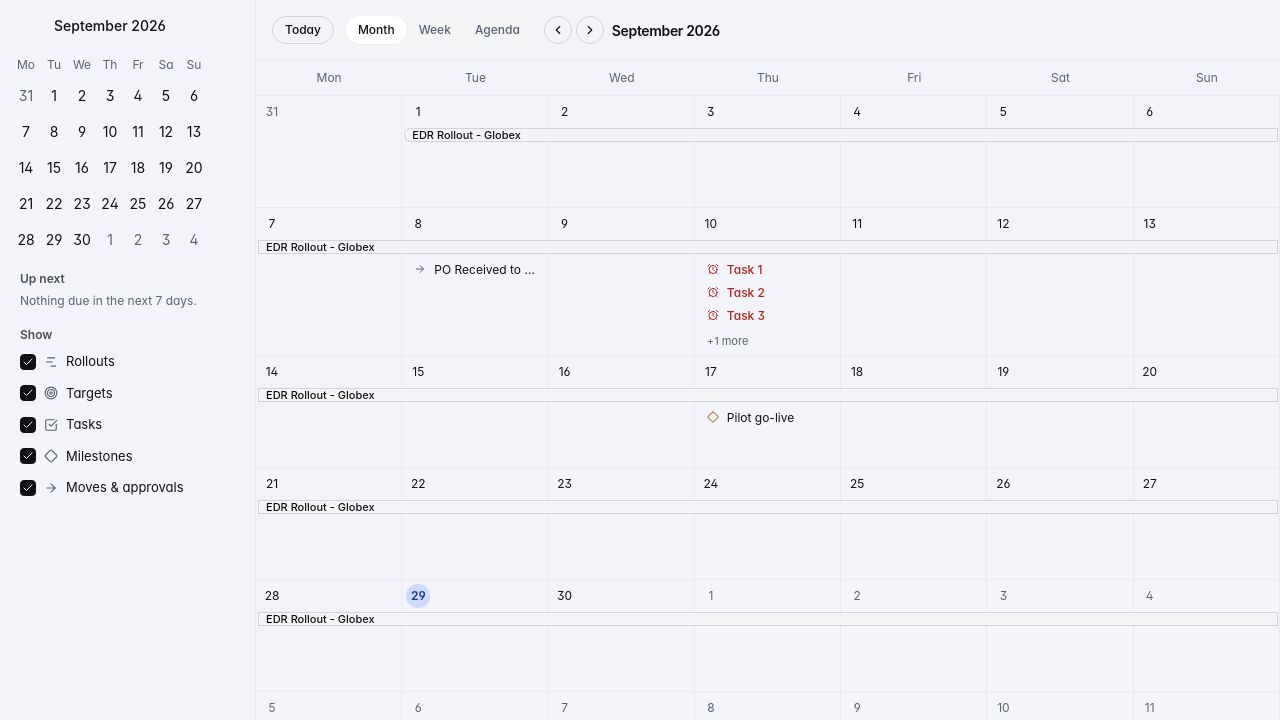
Test: Calendar › draws the month with bars, chips, a cap per day and the day panel
The image size is (1280, 720).
Expected: the heading reads "September 2026", [612,22,720,38]
Expected: the 1st link "EDR Rollout - Globex" is shown, [404,128,1278,142]
Click the button "+1 more" at (728, 341), box [699,333,756,350]
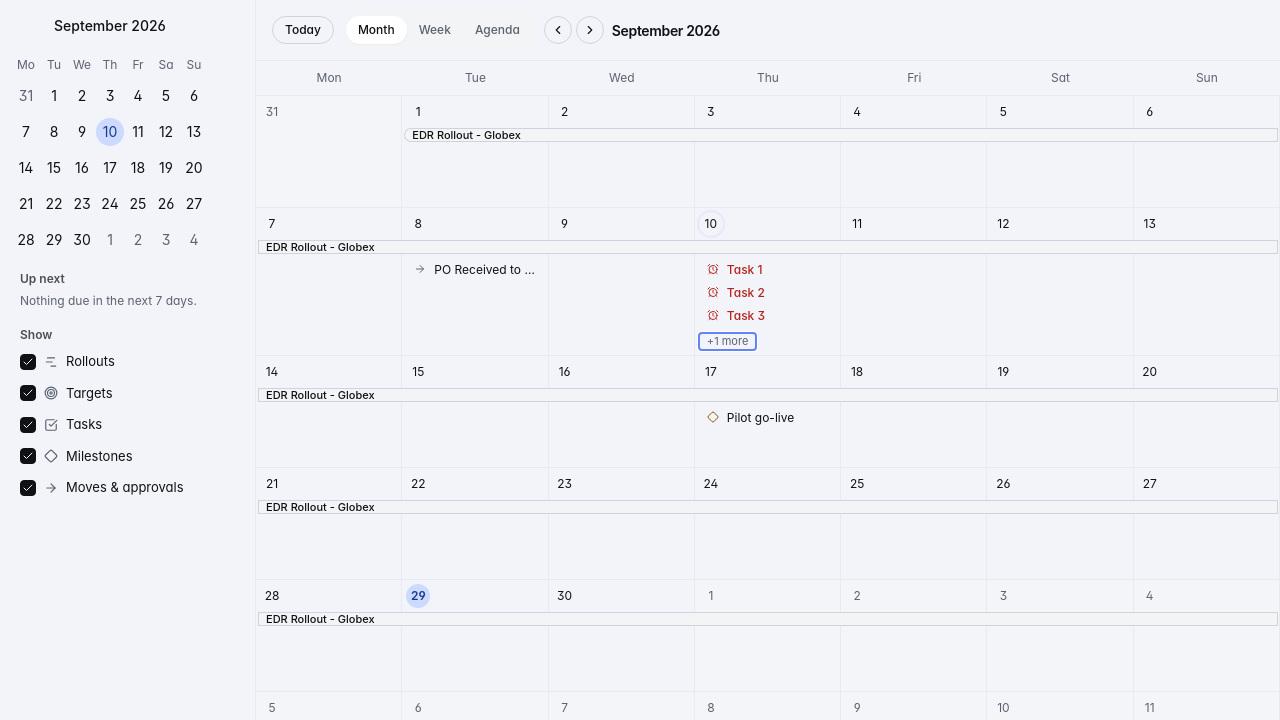
Click the button "Tasks" at (128, 425), box [12,411,243,438]
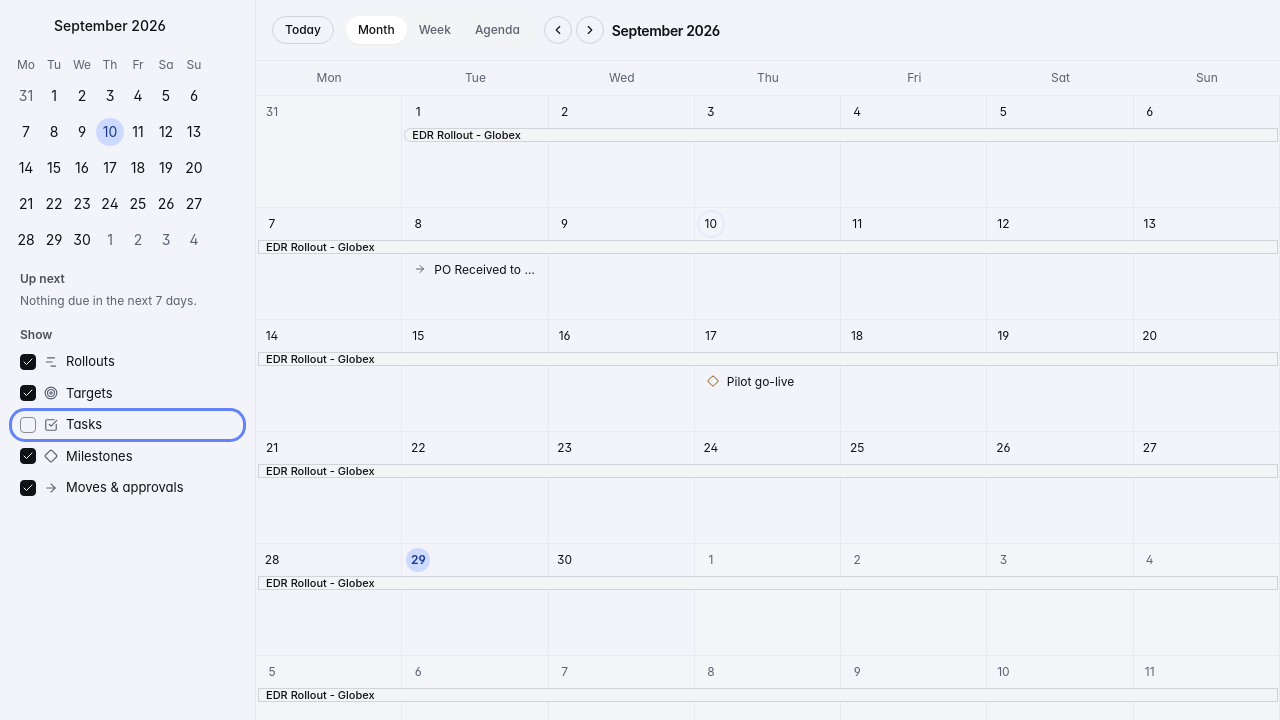
Expected: the button "Task 1" is gone
